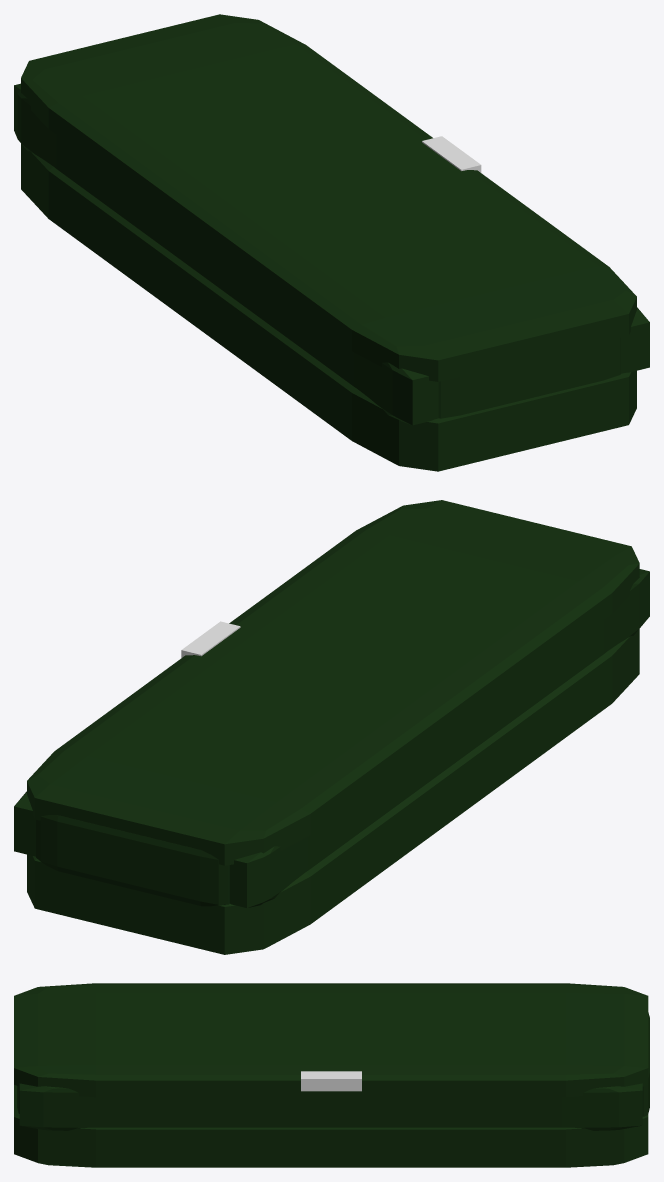
File: cusket.fbx
3 renders of one model, top to bottom at view 1: azimuth 30°, elevation 25°; view 2: azimuth 150°, elevation 25°; view 3: azimuth 270°, elevation 25°, orthographic. The views are drawn at different scales.
Visible parts, largest first — view 1: 立方体.005, 立方体, 立方体.004, 立方体.002, 立方体.003, 立方体.011; view 2: 立方体.005, 立方体, 立方体.004, 立方体.001, 立方体.003, 立方体.011; view 3: 立方体.005, 立方体, 立方体.003, 立方体.011, 立方体.001.
Part boxes in pixels (bbox=[...]): 立方体.005: bbox=[21, 14, 636, 381]; 立方体: bbox=[21, 144, 636, 471]; 立方体.004: bbox=[14, 83, 438, 425]; 立方体.002: bbox=[438, 337, 620, 418]; 立方体.003: bbox=[621, 307, 649, 373]; 立方体.011: bbox=[422, 136, 481, 172]; 立方体.005: bbox=[27, 500, 639, 865]; 立方体: bbox=[27, 629, 639, 954]; 立方体.004: bbox=[229, 569, 649, 907]; 立方体.001: bbox=[36, 815, 229, 906]; 立方体.003: bbox=[14, 791, 35, 856]; 立方体.011: bbox=[181, 621, 240, 657]; 立方体.005: bbox=[14, 983, 648, 1097]; 立方体: bbox=[14, 1085, 648, 1167]; 立方体.003: bbox=[19, 1083, 642, 1130]; 立方体.011: bbox=[301, 1071, 361, 1091]; 立方体.001: bbox=[642, 1012, 649, 1116].
Bounding box in the file's own units: 165 × 74.75 × 449.
